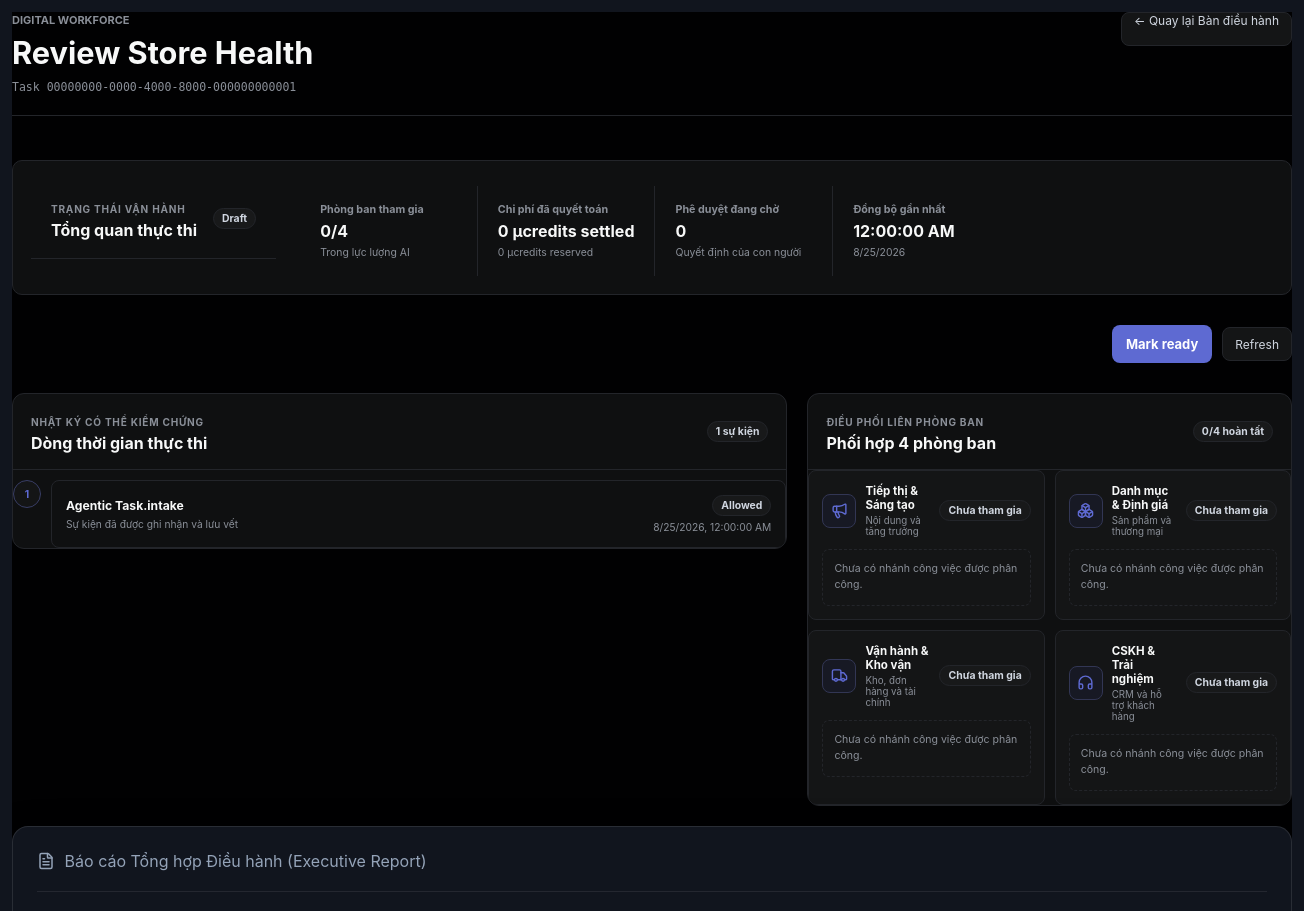
it: AgenticTaskDetailPage › lets an operator mark a draft ready and then start its versioned workflow
This screenshot has width=1304, height=911.
Click the button "Mark ready": (1162, 344) [1112,325,1212,363]
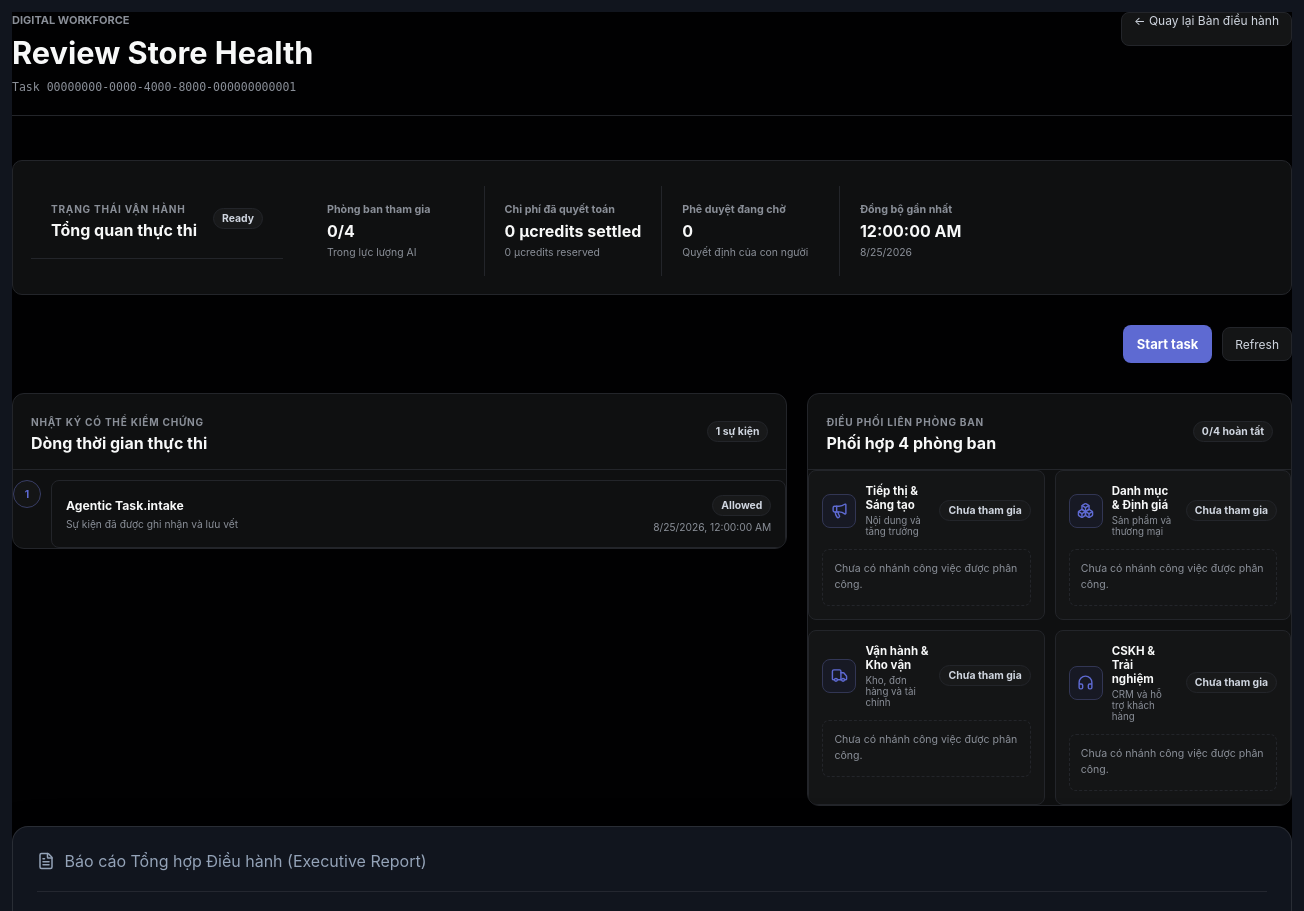
Check: the text "Ready" is shown, box [213,208,263,229]
Check: the button "Mark ready" is gone
Click the button "Start task": (1168, 344) [1123,325,1212,363]
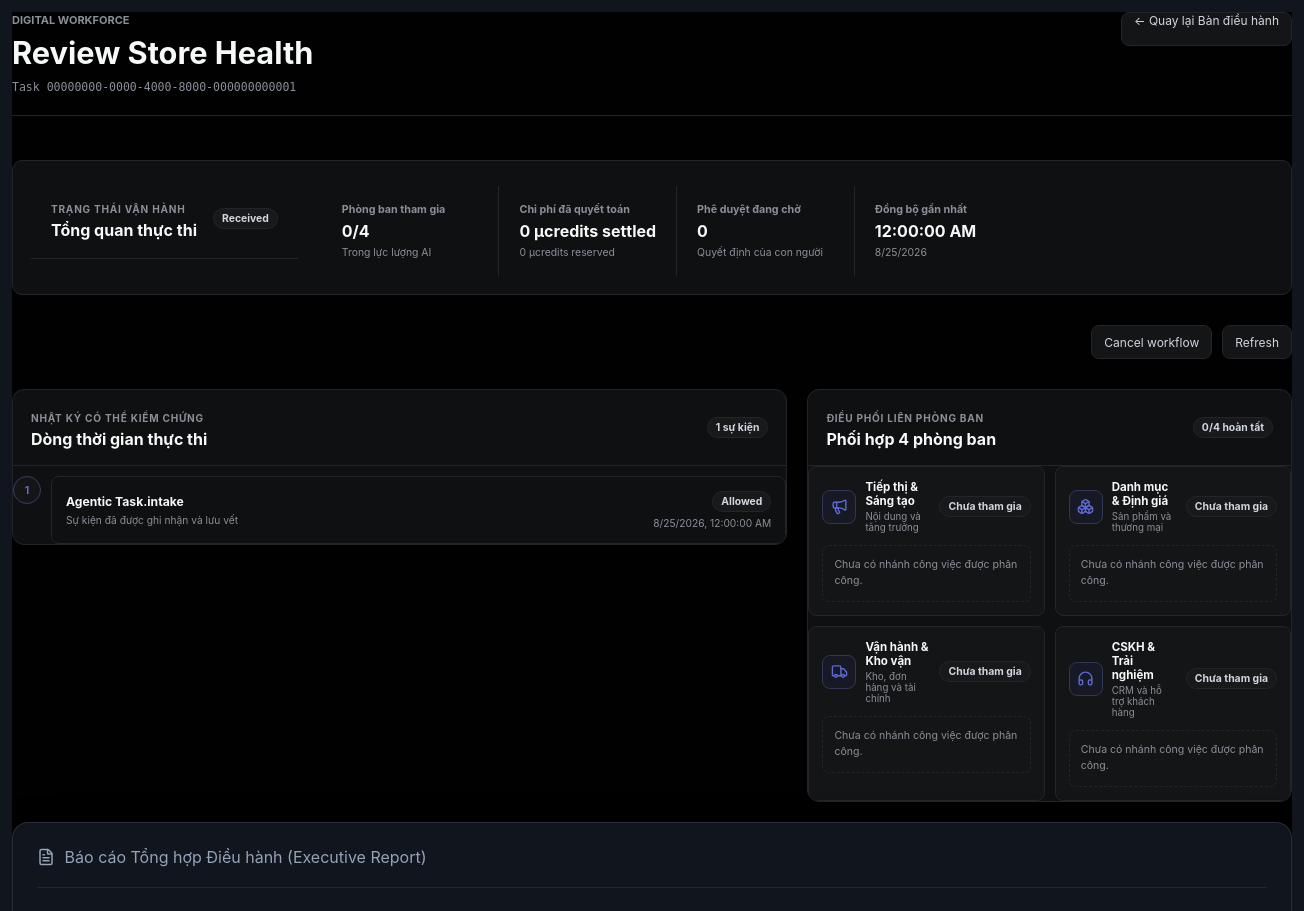
Check: the text "Received" is shown, box [213,208,278,229]
Check: the button "Start task" is gone
